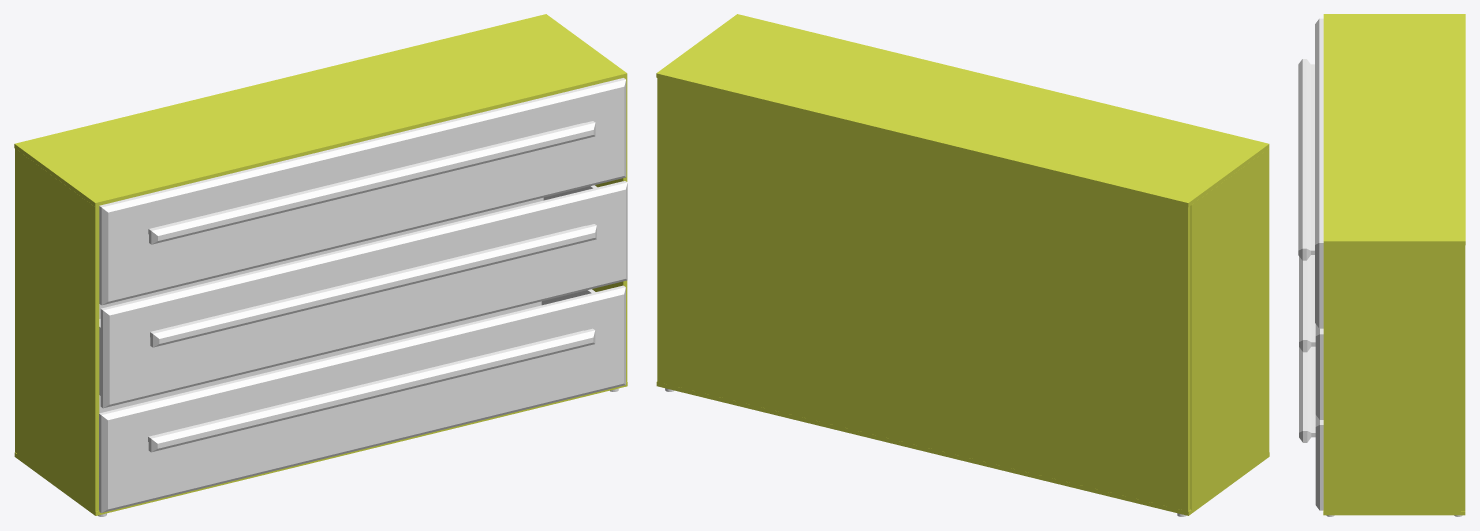
The model's file is Drawers.fbx.
The picture shows the model from 3 angles, left to right: view 1: azimuth 30°, elevation 25°; view 2: azimuth 150°, elevation 25°; view 3: azimuth 270°, elevation 25°; orthographic projection. The views are drawn at different scales.
Visible parts, largest first — view 1: drawers004; view 2: drawers004; view 3: drawers004.
Boxes of the visible parts, box(x1,y1,x2,y2) form: drawers004: box(14, 14, 627, 516); drawers004: box(656, 14, 1269, 516); drawers004: box(1298, 14, 1465, 516).
Bounding box in the file's own units: 128 × 73.01 × 39.86.
Materials: 1 (1 with a texture image).
